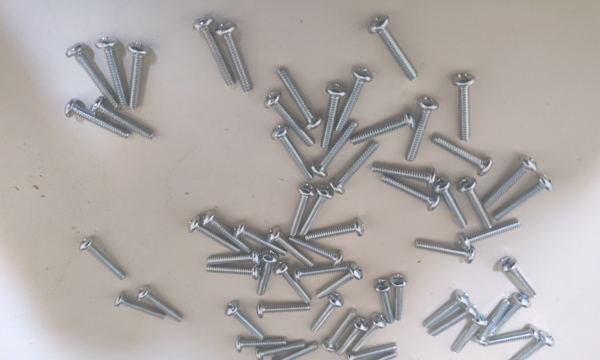longscrew: (263, 88, 317, 148), (273, 64, 321, 130), (494, 174, 552, 227), (69, 44, 117, 107), (373, 17, 423, 77), (431, 133, 496, 178), (270, 123, 317, 183), (195, 19, 232, 92), (220, 23, 257, 95), (400, 96, 439, 164), (92, 99, 153, 142), (484, 160, 536, 210), (66, 102, 127, 144), (315, 124, 359, 178), (77, 237, 127, 282), (338, 68, 372, 134), (204, 210, 255, 254), (189, 212, 240, 256), (334, 143, 377, 195), (379, 178, 439, 215), (352, 112, 415, 146), (457, 220, 521, 252), (237, 223, 289, 262), (458, 178, 494, 230), (99, 37, 125, 106), (436, 175, 469, 229), (422, 291, 471, 327), (127, 40, 152, 109), (138, 285, 181, 323), (318, 266, 366, 300), (271, 230, 312, 269), (495, 295, 532, 338), (302, 187, 335, 235), (453, 70, 474, 145), (427, 306, 479, 336), (290, 236, 342, 266), (373, 165, 442, 187), (453, 314, 489, 356), (413, 238, 475, 262), (113, 296, 171, 321), (501, 259, 539, 297), (350, 316, 387, 355), (333, 319, 370, 358), (321, 314, 358, 353), (479, 298, 509, 346), (226, 303, 264, 340), (307, 295, 343, 334), (278, 263, 312, 304), (301, 221, 366, 242), (322, 79, 341, 150), (483, 327, 541, 349), (290, 183, 314, 234), (512, 331, 553, 360), (345, 340, 398, 360), (253, 341, 304, 360), (390, 269, 408, 320), (376, 274, 394, 325), (257, 252, 275, 300), (233, 337, 289, 352), (293, 264, 352, 278), (202, 253, 262, 266), (202, 266, 262, 278), (251, 305, 315, 316), (275, 344, 319, 360), (346, 353, 399, 360)
